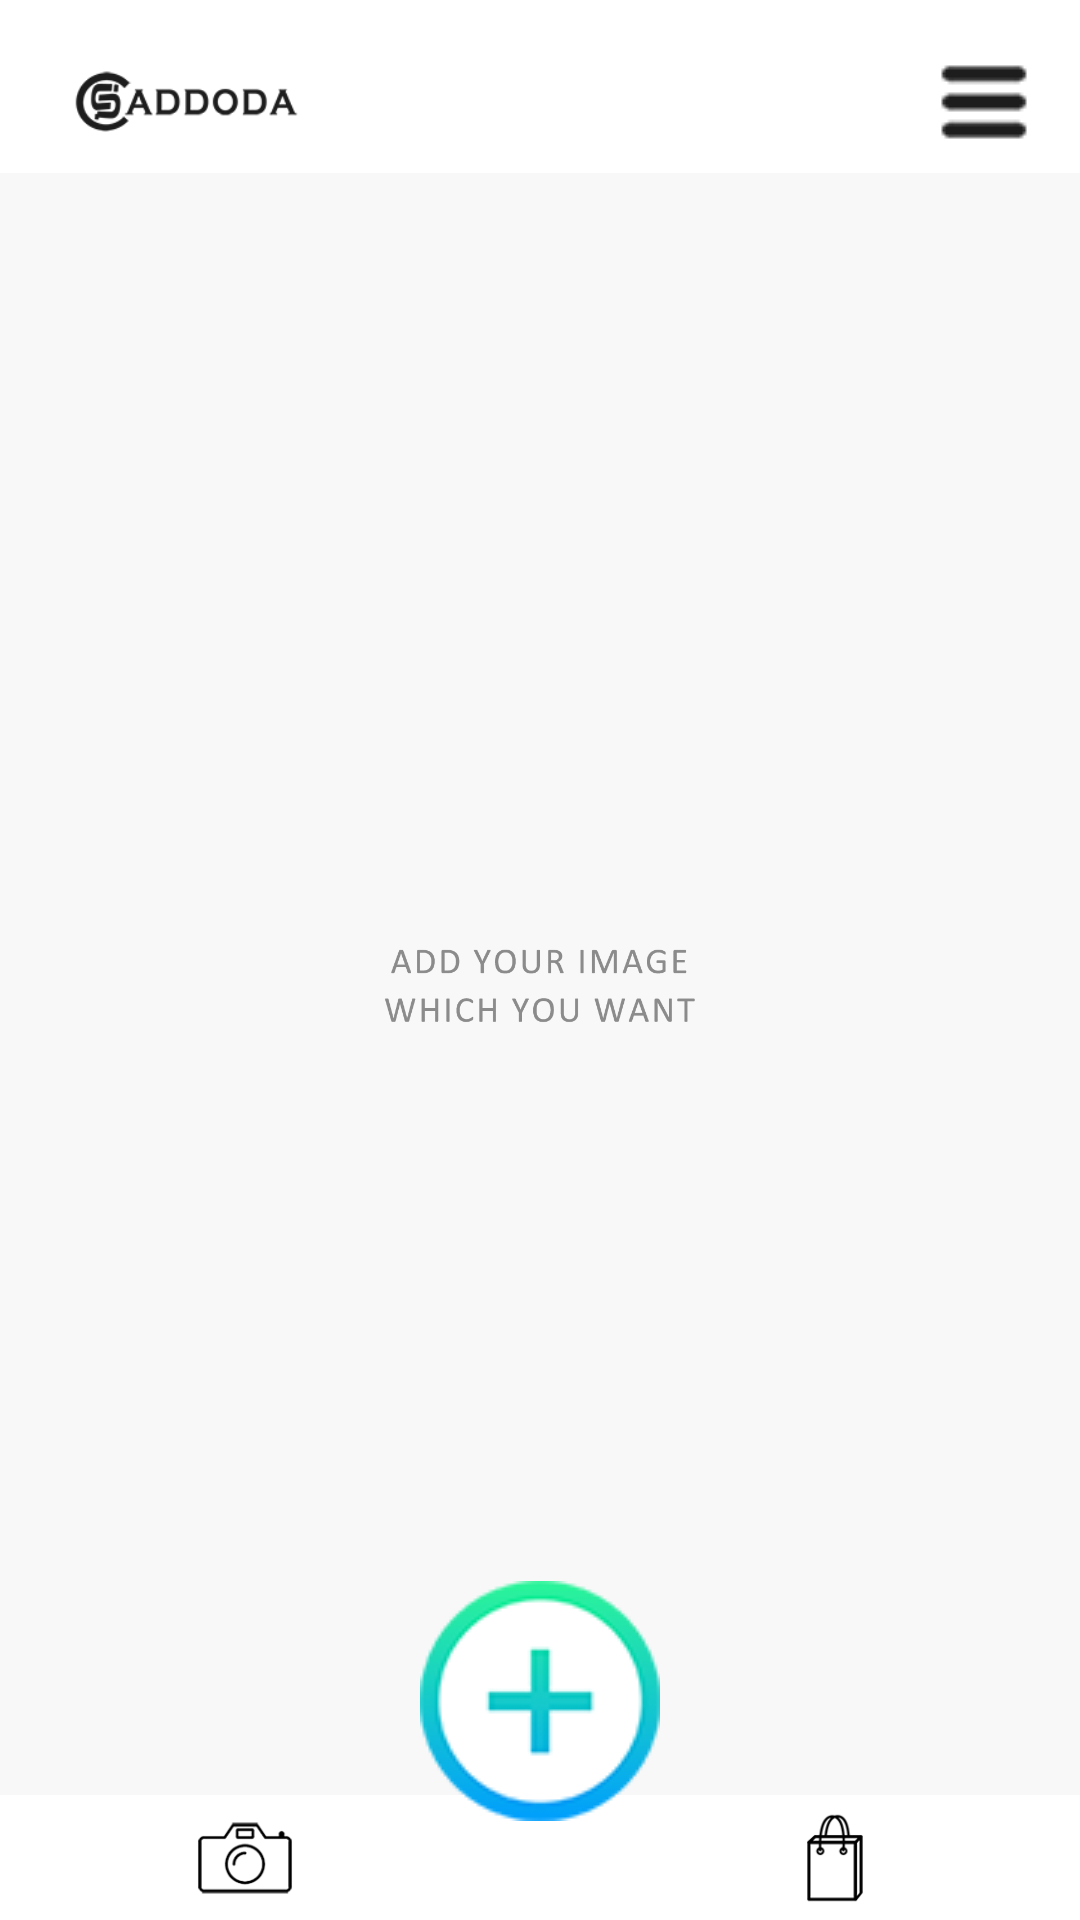

Named icons in this screenshot (1080w x 1920h) and their bounding boxes, bbox(x1, y1, x2, y2):
bag: bbox(807, 1814, 863, 1902)
camera: bbox(198, 1822, 292, 1894)
menu: bbox(941, 65, 1027, 139)
plus: bbox(420, 1581, 660, 1821)
